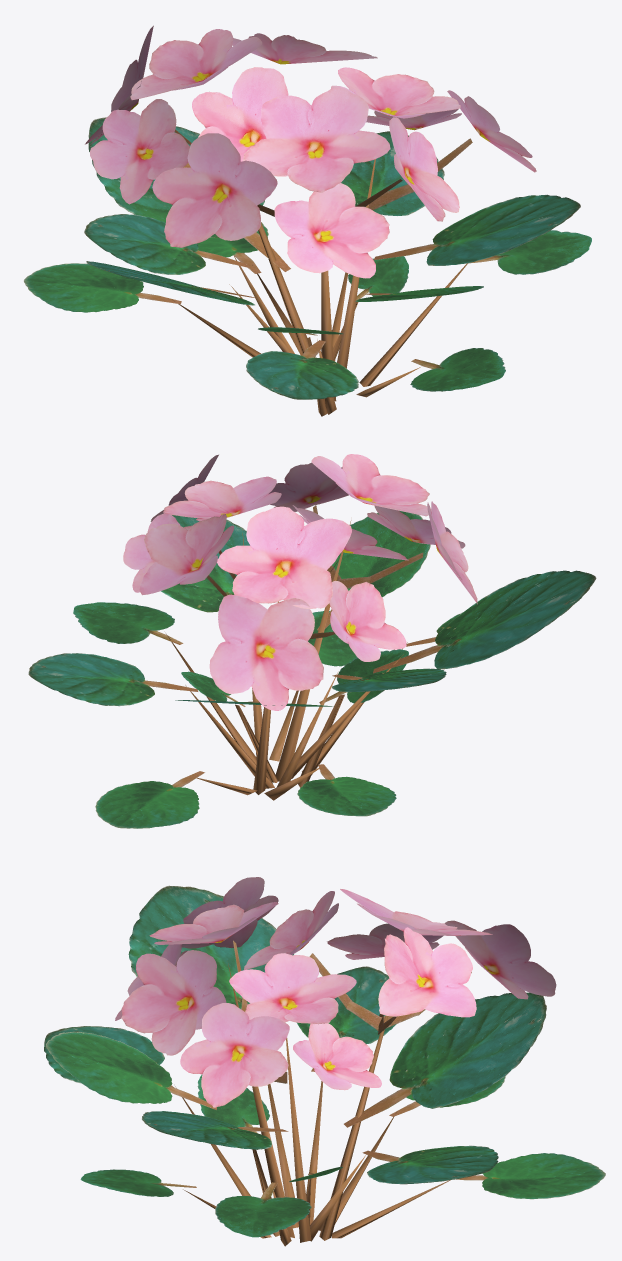
The model's file is Saintpaulia2B.fbx.
The picture shows the model from 3 angles, top to bottom: view 1: azimuth 30°, elevation 25°; view 2: azimuth 150°, elevation 25°; view 3: azimuth 270°, elevation 25°; orthographic projection. The views are drawn at different scales.
Parts seen in each view (by area): view 1: Sainpaulia2B_LOD2; view 2: Sainpaulia2B_LOD2; view 3: Sainpaulia2B_LOD2.
Boxes of the visible parts, x1,y1,x2,y2 form: Sainpaulia2B_LOD2: (24, 25, 591, 416); Sainpaulia2B_LOD2: (28, 454, 596, 828); Sainpaulia2B_LOD2: (44, 877, 605, 1246).
Bounding box in the file's own units: 73.2 × 42.84 × 71.38.
